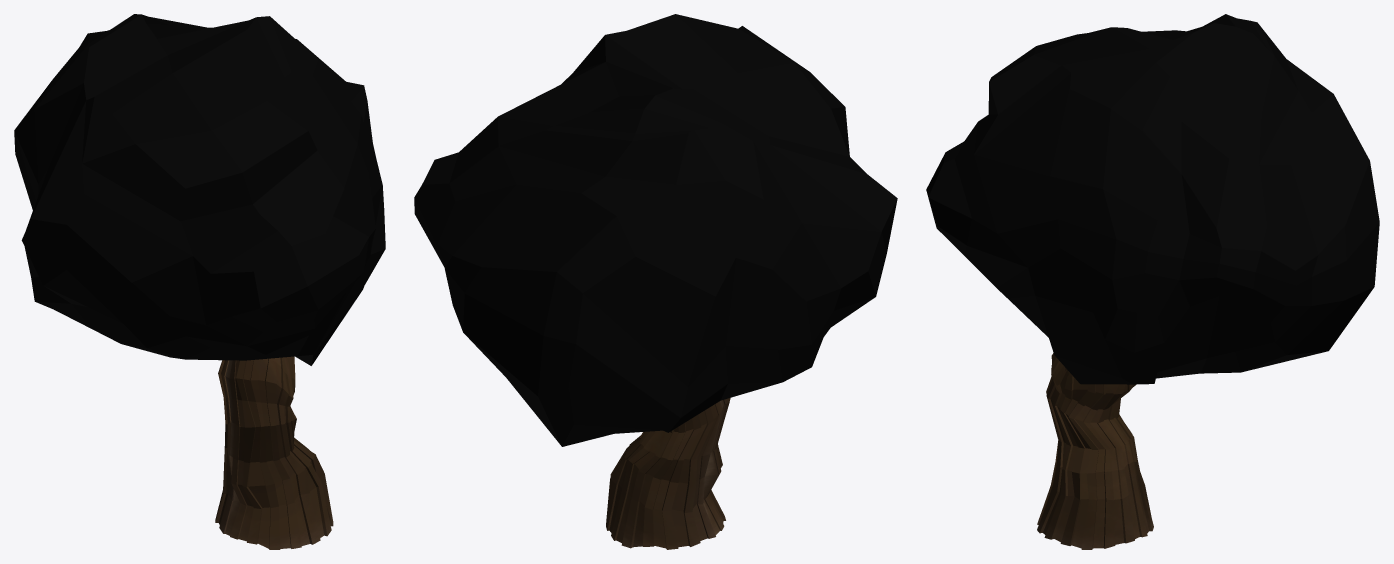
File: Hearth_Tree_A.fbx
3 views of the same model, side by side, from view 1: azimuth 30°, elevation 25°; view 2: azimuth 150°, elevation 25°; view 3: azimuth 270°, elevation 25° (orthographic). The views are drawn at different scales.
Visible parts, largest first — view 1: Hearth_Tree_A; view 2: Hearth_Tree_A; view 3: Hearth_Tree_A.
Boxes of the visible parts, bbox=[...] form: Hearth_Tree_A: bbox=[14, 14, 385, 549]; Hearth_Tree_A: bbox=[414, 14, 897, 549]; Hearth_Tree_A: bbox=[926, 14, 1379, 549].
Bounding box in the file's own units: 5357 × 6649 × 5582.
